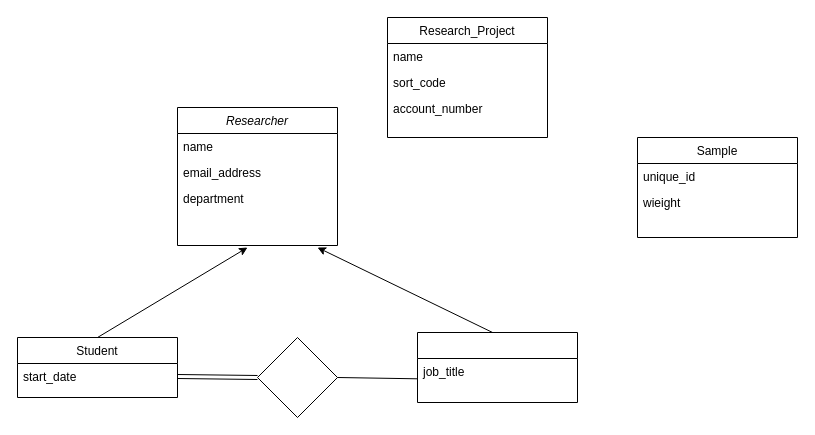
This 815x435 diagram has some shape labels left out. Here are the shapes that lost their labels. From the top down, the box of each, then its label:
(256, 336, 338, 418): supervices
(416, 332, 578, 402): Staff
